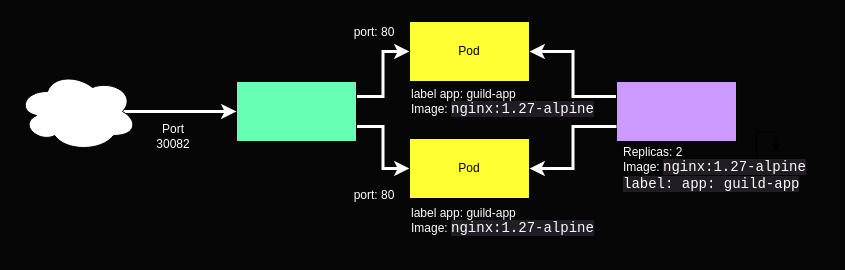
Some shapes in this 845 by 270 pixel diagram are drawn without their labels. The shapes that lost their labels are listed below. From the top down, each one's centre as x and y in pixels, then its label:
point 296,111: service
point 676,111: Deployment
